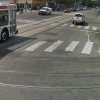crosswalk: (1, 41, 94, 55), (58, 23, 98, 31)
